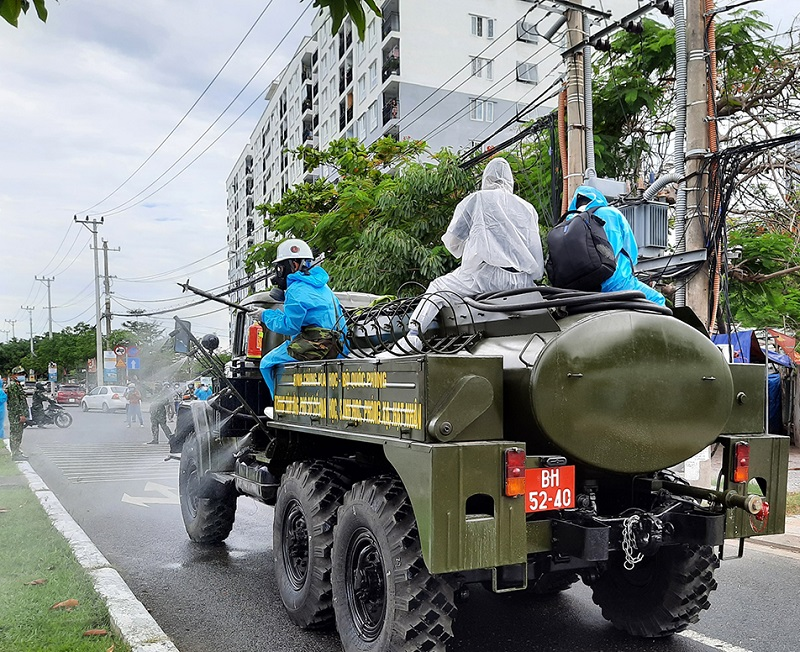plate: (521, 465, 577, 513)
